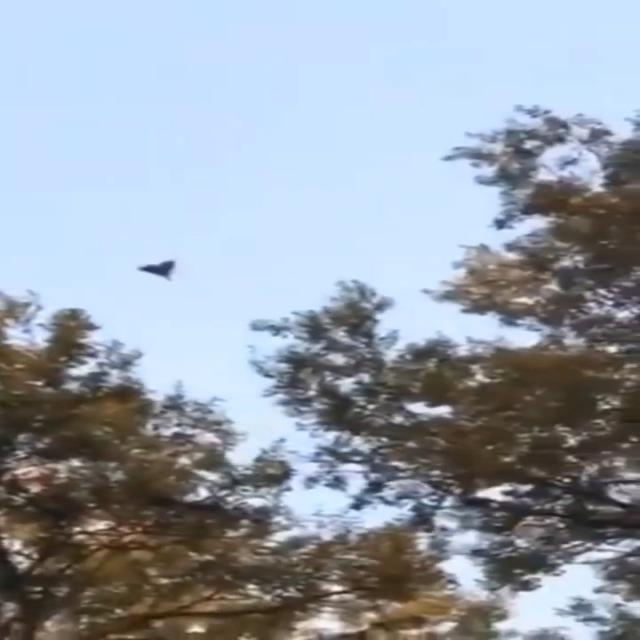drone: (138, 245, 192, 290)
